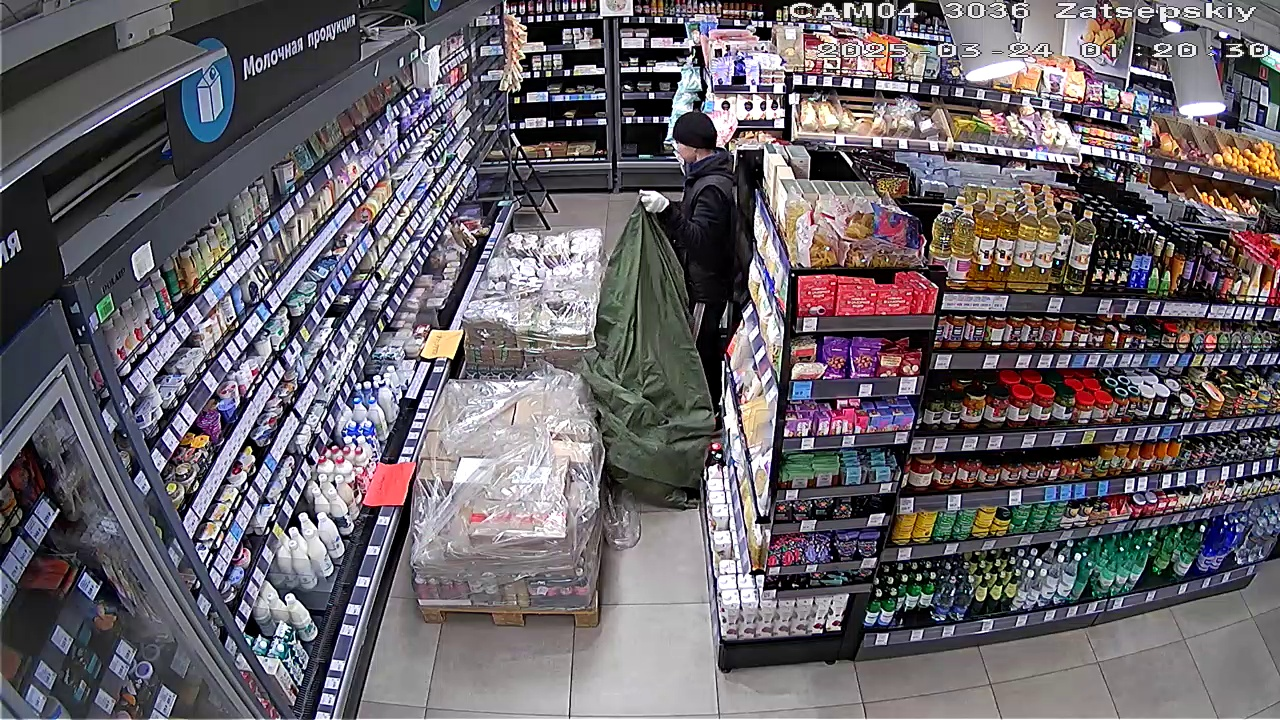Human: (635, 105, 735, 325)
pallet: (420, 367, 603, 619), (466, 220, 603, 377)
